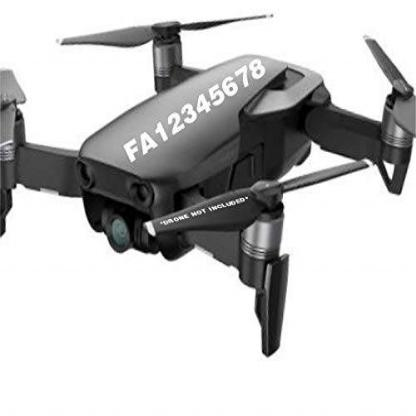drone: (1, 1, 416, 364)
